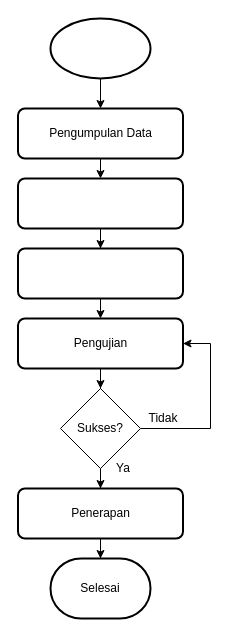
Some shapes in this 236 by 636 pixel diagram are drawn without their labels. The shapes that lost their labels are listed below. From the top down, each one's centre as x and y in pixels, then its label:
At (x=100, y=48): "Mulai".
At (x=100, y=203): "Perancangan Topologi".
At (x=100, y=273): "Instalasi dan Konfigurasi".
